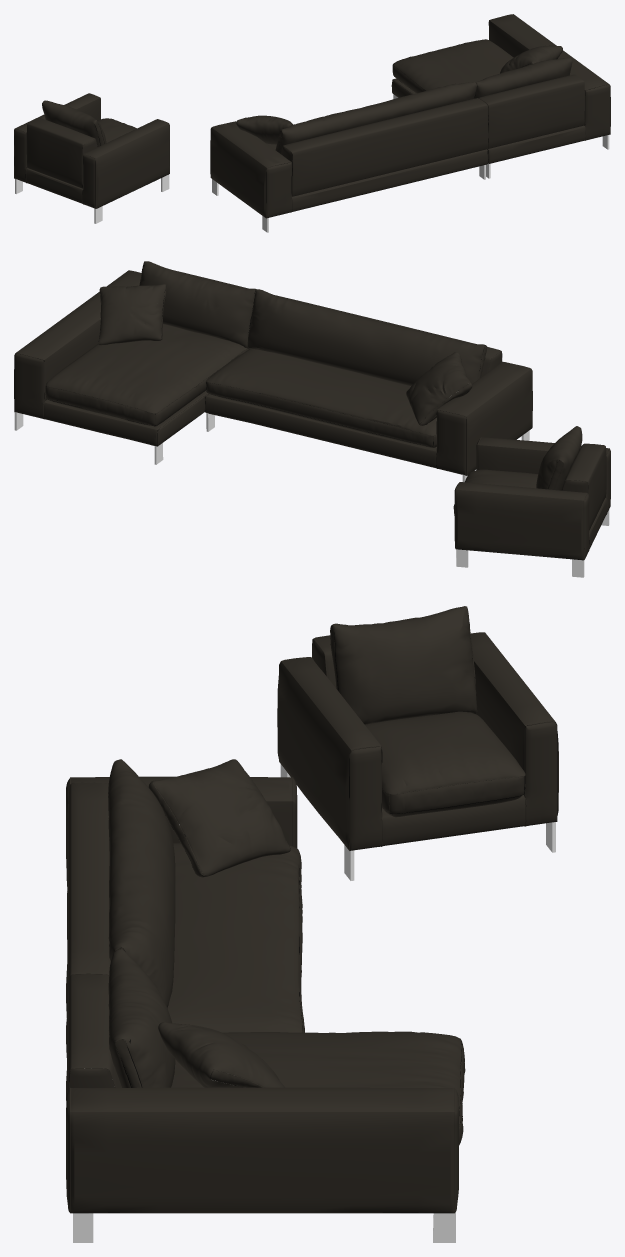
The picture shows the model from 3 angles, top to bottom: view 1: azimuth 30°, elevation 25°; view 2: azimuth 150°, elevation 25°; view 3: azimuth 270°, elevation 25°; orthographic projection. The views are drawn at different scales.
Parts seen in each view (by area): view 1: Sofa V1; view 2: Sofa V1; view 3: Sofa V1.
Part boxes in pixels (x1,y1,x2,y2): Sofa V1: (14, 14, 610, 232); Sofa V1: (14, 261, 610, 577); Sofa V1: (66, 606, 558, 1242).
Bounding box in the file's own units: 5.04 × 0.8829 × 2.17.
1 material, 1 textured.
